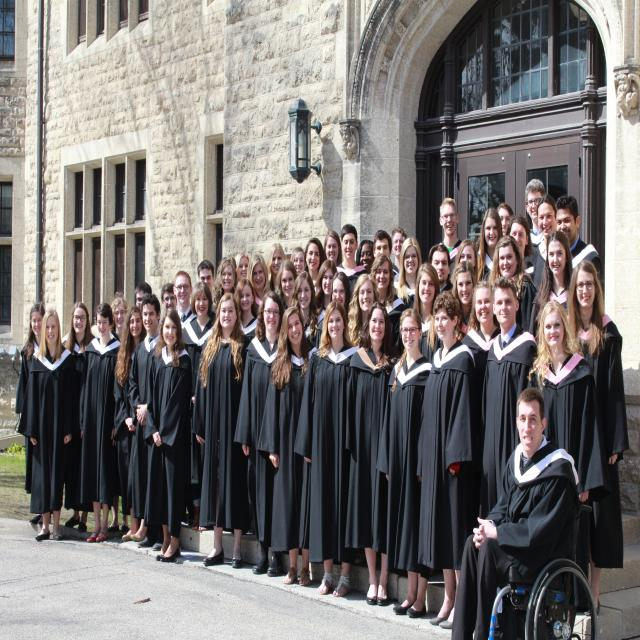body: (448, 384, 584, 640), (524, 298, 604, 640), (414, 291, 483, 633), (566, 258, 630, 617), (294, 299, 362, 602), (375, 302, 438, 620), (344, 302, 403, 607), (191, 290, 255, 570), (256, 305, 318, 587), (233, 290, 286, 577), (16, 306, 77, 548), (480, 276, 538, 520), (146, 307, 193, 565), (78, 301, 126, 548), (127, 293, 167, 551), (181, 280, 218, 530), (15, 302, 52, 525), (114, 304, 147, 542), (63, 301, 96, 533), (460, 278, 501, 452), (105, 296, 131, 533), (487, 235, 537, 332), (553, 193, 602, 291), (528, 230, 573, 334), (286, 271, 326, 361), (370, 252, 405, 354), (413, 262, 445, 364), (334, 224, 370, 304), (348, 273, 380, 352), (450, 259, 480, 343), (532, 193, 557, 291), (436, 196, 464, 282), (524, 178, 547, 280), (473, 206, 504, 281), (504, 214, 536, 283), (393, 237, 422, 310), (452, 238, 480, 296), (426, 242, 455, 298), (233, 278, 258, 342), (247, 253, 272, 316), (212, 254, 240, 310), (173, 270, 197, 334), (312, 260, 338, 316), (302, 237, 326, 296), (196, 259, 219, 314), (389, 225, 411, 281), (275, 260, 299, 310), (265, 242, 288, 292), (158, 281, 178, 330), (355, 238, 377, 274), (323, 229, 343, 268), (330, 270, 351, 307), (233, 251, 252, 285), (496, 203, 514, 237), (373, 230, 392, 258), (134, 281, 152, 310), (290, 247, 305, 275)
